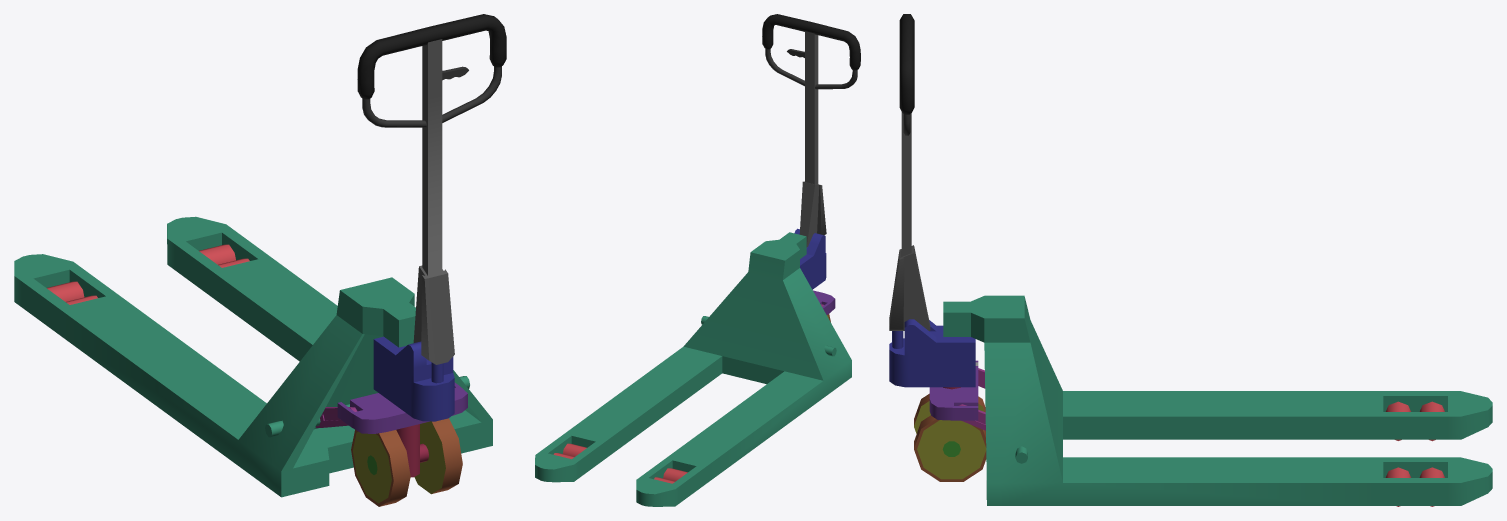
The model's file is jackylow.fbx.
The picture shows the model from 3 angles, left to right: view 1: azimuth 30°, elevation 25°; view 2: azimuth 150°, elevation 25°; view 3: azimuth 270°, elevation 25°; orthographic projection. The views are drawn at different scales.
Parts seen in each view (by area): view 1: jacklow; view 2: jacklow; view 3: jacklow.
Boxes of the visible parts, x1=… form: jacklow: x1=14, y1=14, x2=506, y2=506; jacklow: x1=535, y1=14, x2=860, y2=506; jacklow: x1=889, y1=14, x2=1492, y2=506.
Size of the model in its own units: 70.15 by 153 by 195.
